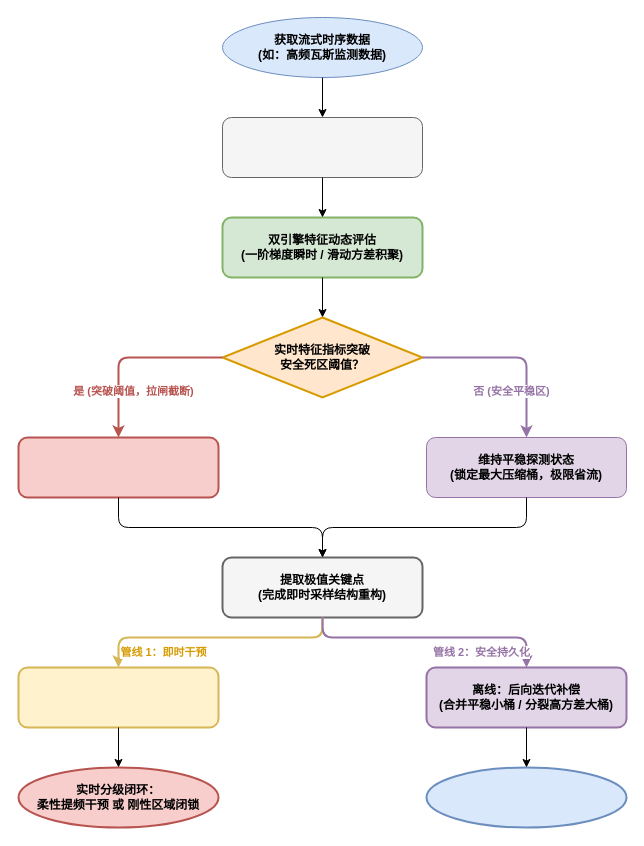
Some shapes in this 644 by 846 pixel diagram are drawn without their labels. The centre of each missing label's shape, as x and y in pixels:
"在线：双通道融合预警 (二维联动矩阵 / 兜底红线)" belongs at point (118, 697).
"数据在线预处理 (缺失前向填充与中值保边去噪)" belongs at point (322, 147).
"精准锁定目标压缩比 M 固化落盘至 TSDB 时序数据库" belongs at point (526, 797).
"触发流式截断机制 (动态缩小采样桶，高频保真)" belongs at point (118, 467).
